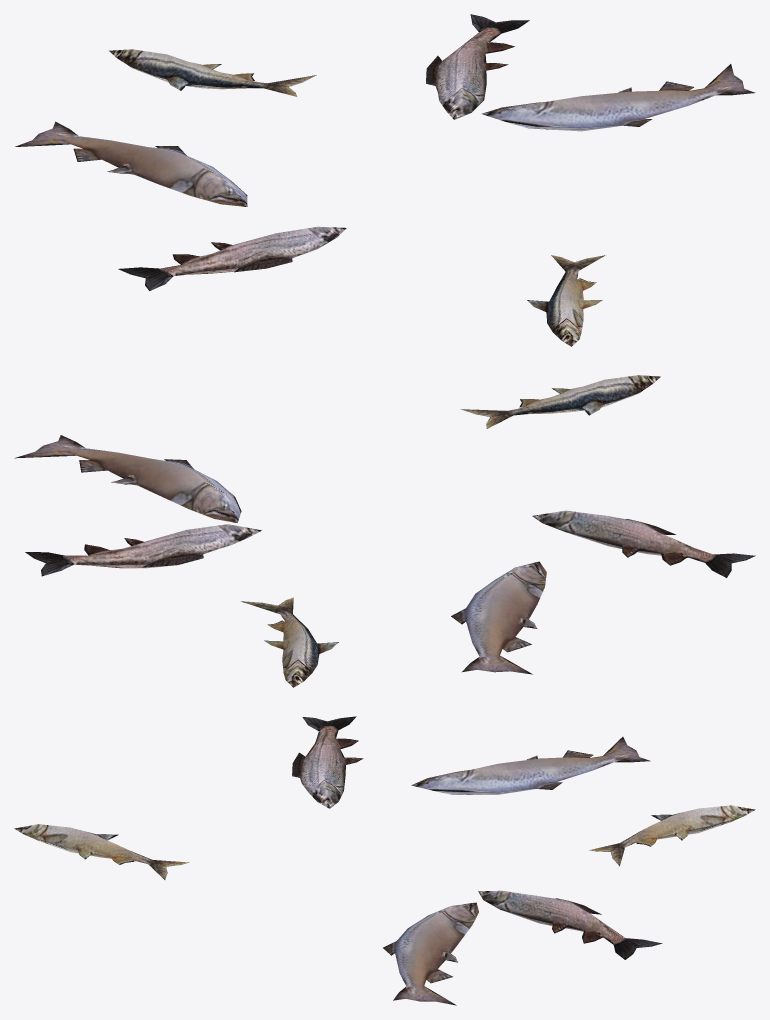
Rendered from village_fish_mass_01.fbx.
The picture shows the model from 3 angles, top to bottom: view 1: azimuth 30°, elevation 25°; view 2: azimuth 150°, elevation 25°; view 3: azimuth 270°, elevation 25°; orthographic projection. The views are drawn at different scales.
Visible parts, largest first — view 1: village_fish_mass_01; view 2: village_fish_mass_01; view 3: village_fish_mass_01.
Part boxes in pixels (x1,y1,x2,y2): village_fish_mass_01: (15, 14, 755, 346); village_fish_mass_01: (14, 375, 755, 687); village_fish_mass_01: (14, 716, 755, 1005).
Size of the model in its own units: 223 by 11.19 by 241.
